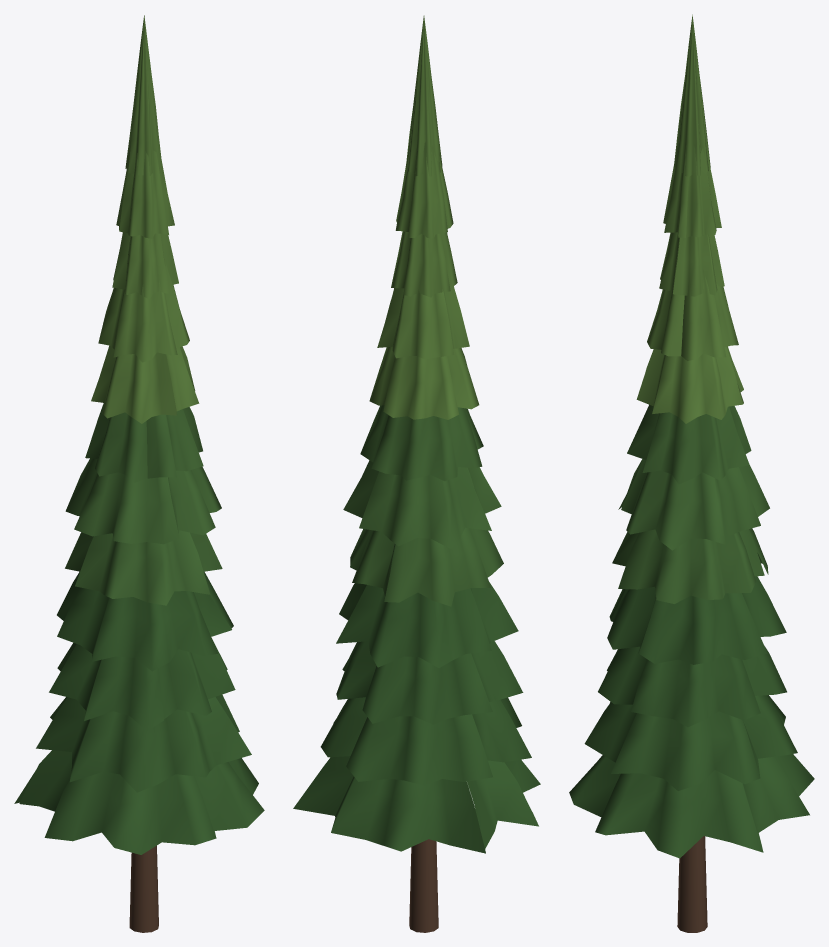
Rendered from pine-04-lod0.glb.
3 renders of one model, left to right at view 1: azimuth 30°, elevation 25°; view 2: azimuth 150°, elevation 25°; view 3: azimuth 270°, elevation 25°, orthographic.
Visible parts, largest first — view 1: crown, trunk; view 2: crown, trunk; view 3: crown, trunk.
Part boxes in pixels (box(x1,y1,x2,y2)): crown: box(14, 15, 264, 854); trunk: box(129, 845, 158, 932); crown: box(293, 15, 540, 853); trunk: box(409, 839, 438, 932); crown: box(569, 14, 814, 858); trunk: box(677, 836, 707, 932).
Size of the model in its own units: 3.64 by 14.69 by 3.58.
